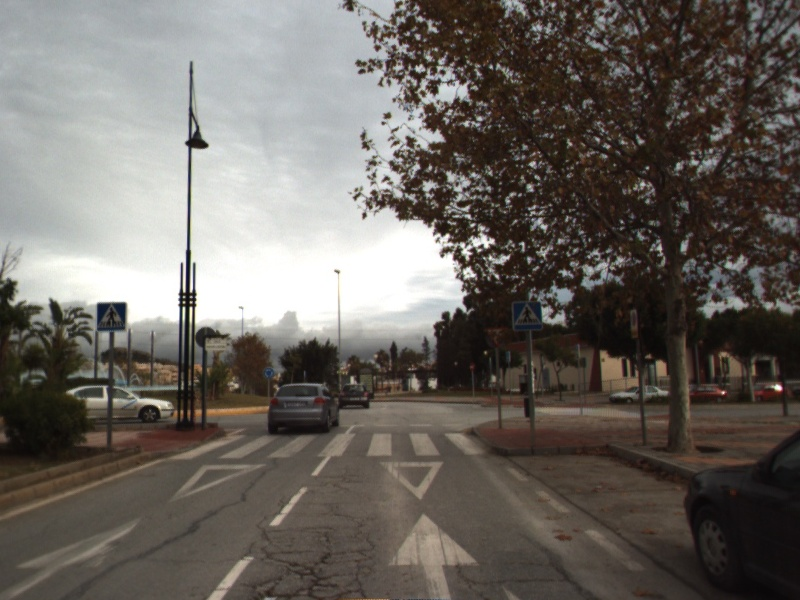STRAIGHT: (1, 512, 146, 600), (383, 508, 484, 600)
